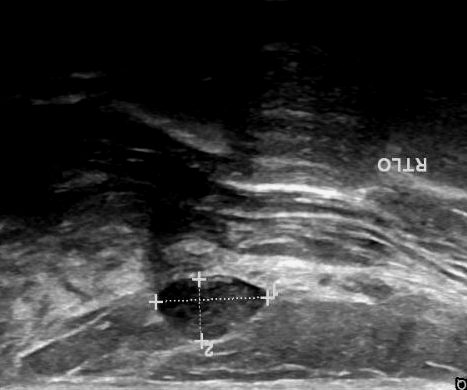Benign: (155, 270, 267, 339)
